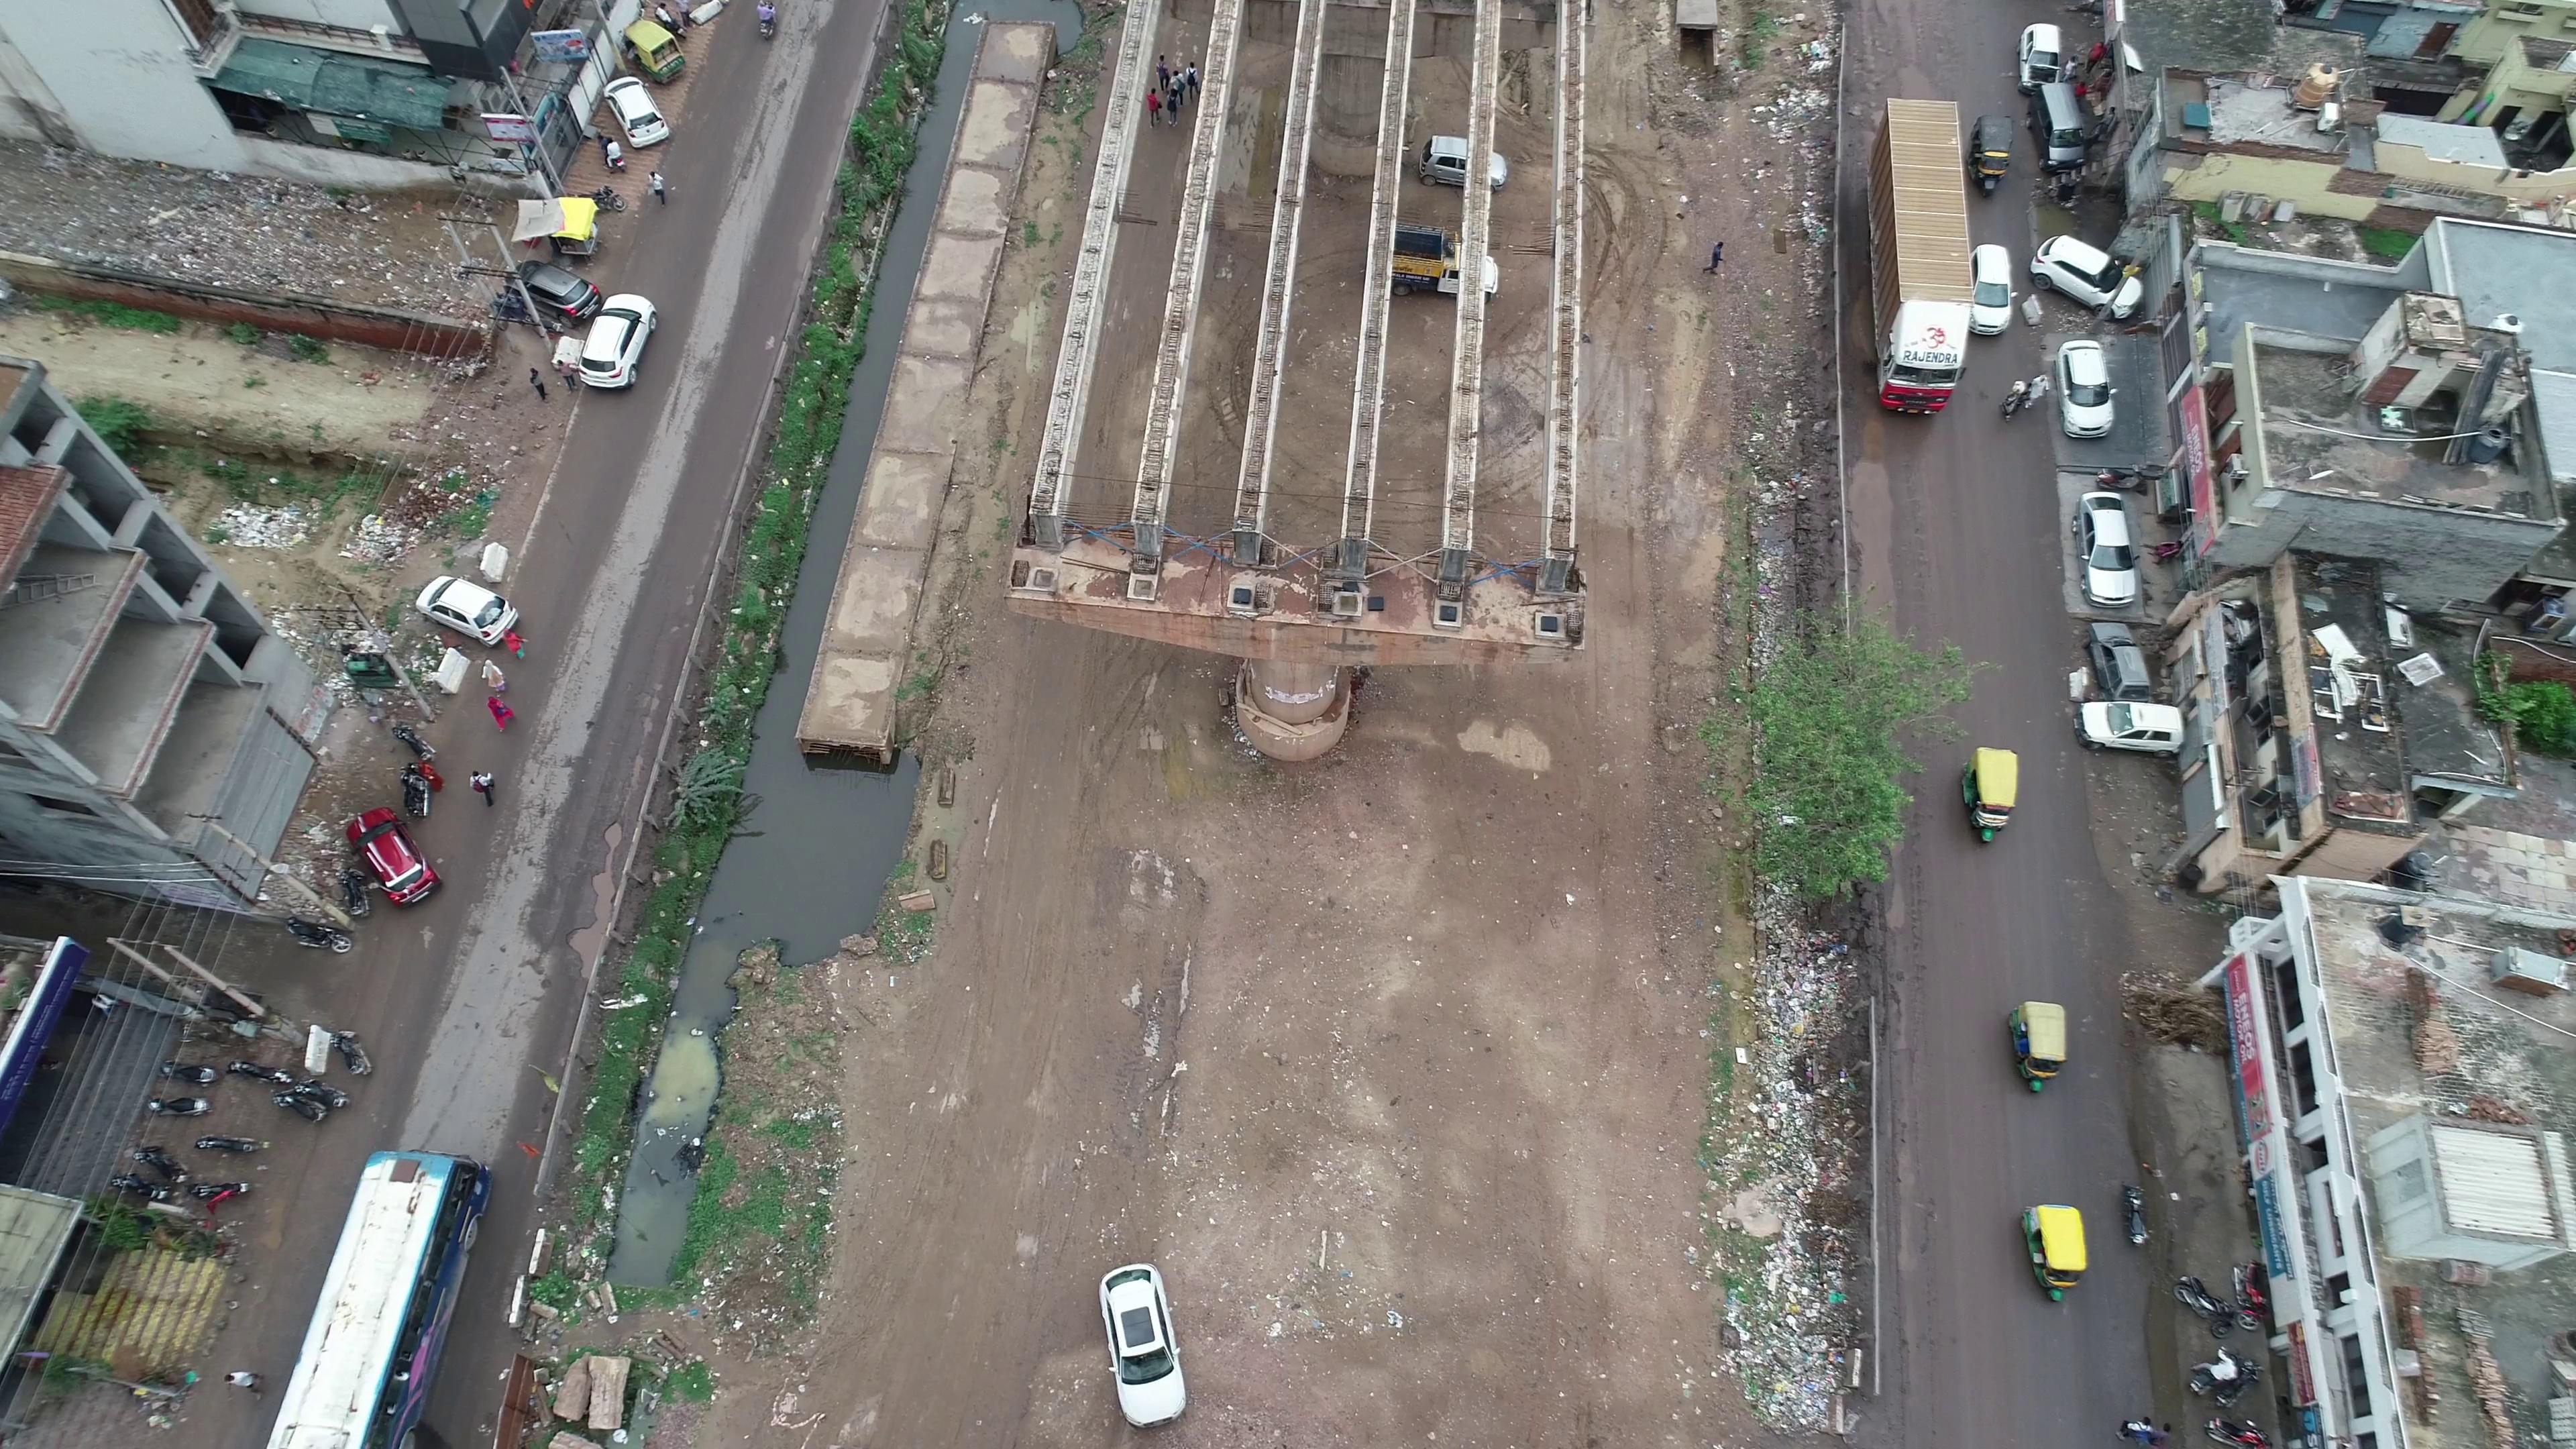Waterlogging: (1847, 425, 1946, 639)
